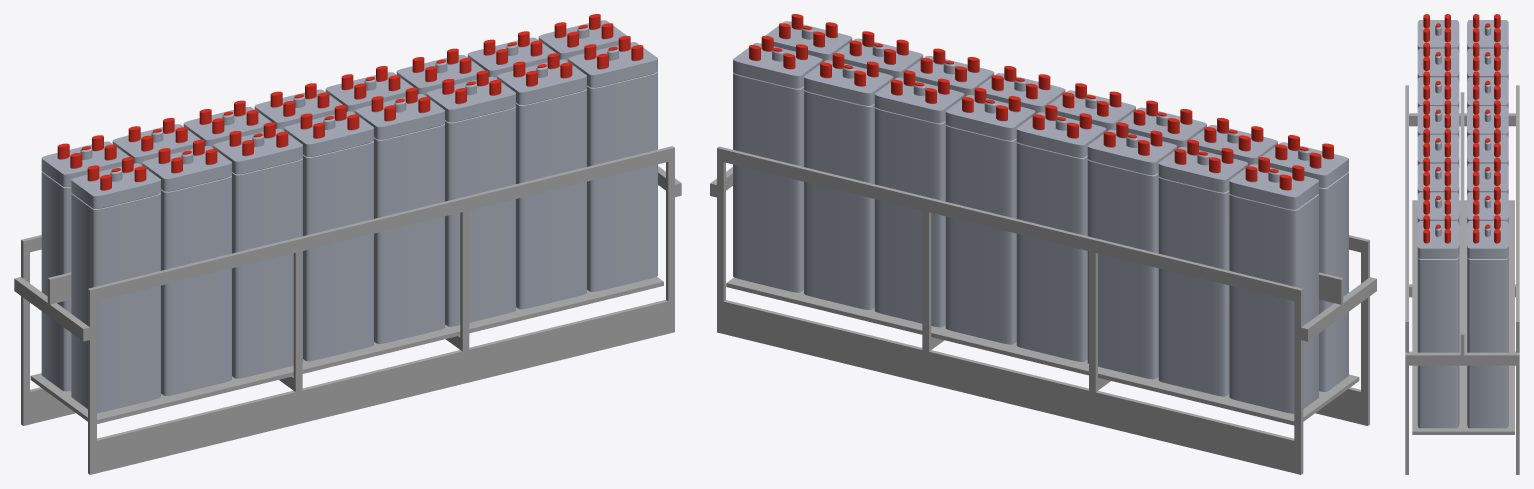
The picture shows the model from 3 angles, left to right: view 1: azimuth 30°, elevation 25°; view 2: azimuth 150°, elevation 25°; view 3: azimuth 270°, elevation 25°; orthographic projection. The views are drawn at different scales.
Parts seen in each view (by area): view 1: RM1-BH09W200D040_02, RM1-BH09W200D040; view 2: RM1-BH09W200D040_02, RM1-BH09W200D040; view 3: RM1-BH09W200D040_02, RM1-BH09W200D040.
Boxes of the visible parts, box(x1,y1,x2,y2) form: RM1-BH09W200D040_02: box(41, 14, 657, 413); RM1-BH09W200D040: box(14, 146, 681, 474); RM1-BH09W200D040_02: box(733, 14, 1348, 413); RM1-BH09W200D040: box(710, 146, 1376, 474); RM1-BH09W200D040_02: box(1417, 14, 1508, 428); RM1-BH09W200D040: box(1405, 85, 1519, 474).
Bounding box in the file's own units: 2 × 0.9 × 0.4.
